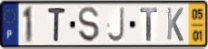1: (22, 4, 36, 46)
J: (106, 6, 126, 44)
K: (166, 6, 185, 43)
S: (77, 6, 101, 44)
T: (47, 6, 68, 43), (139, 7, 159, 43)
